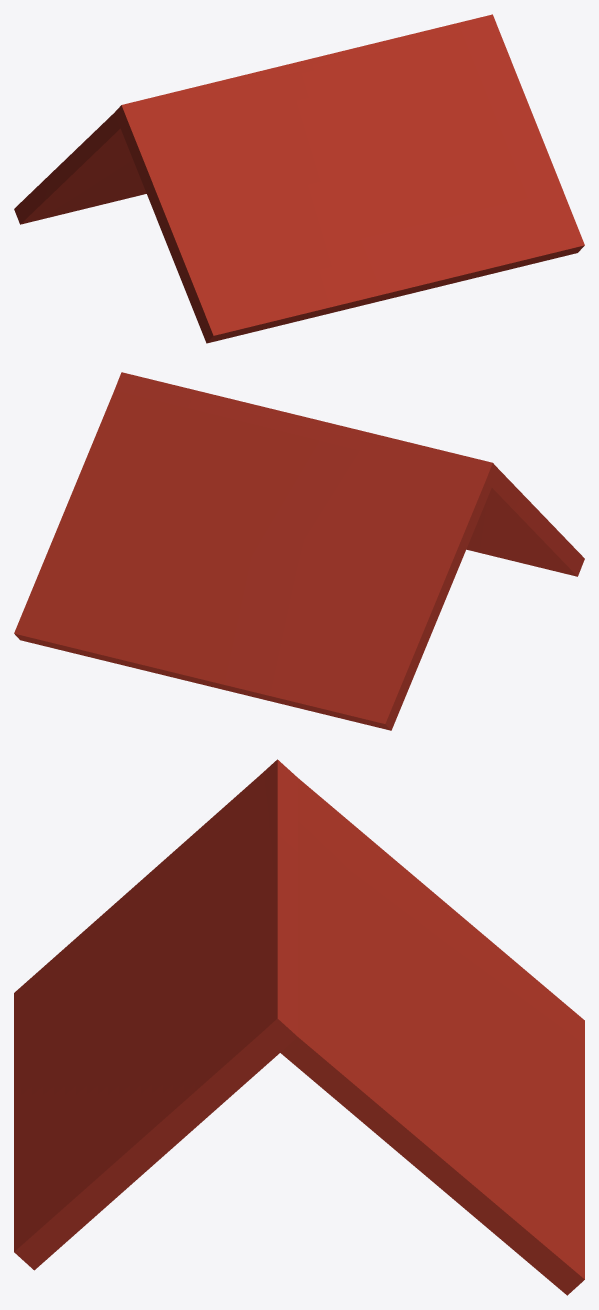
Rendered from CasaRoja_6.FBX.
The picture shows the model from 3 angles, top to bottom: view 1: azimuth 30°, elevation 25°; view 2: azimuth 150°, elevation 25°; view 3: azimuth 270°, elevation 25°; orthographic projection. The views are drawn at different scales.
Parts seen in each view (by area): view 1: CasaRoja_6; view 2: CasaRoja_6; view 3: CasaRoja_6.
Part boxes in pixels (bbox=[...]): CasaRoja_6: bbox=[14, 14, 584, 343]; CasaRoja_6: bbox=[14, 372, 584, 730]; CasaRoja_6: bbox=[14, 759, 584, 1295].
Size of the model in its own units: 48.93 by 24.42 by 45.57.
